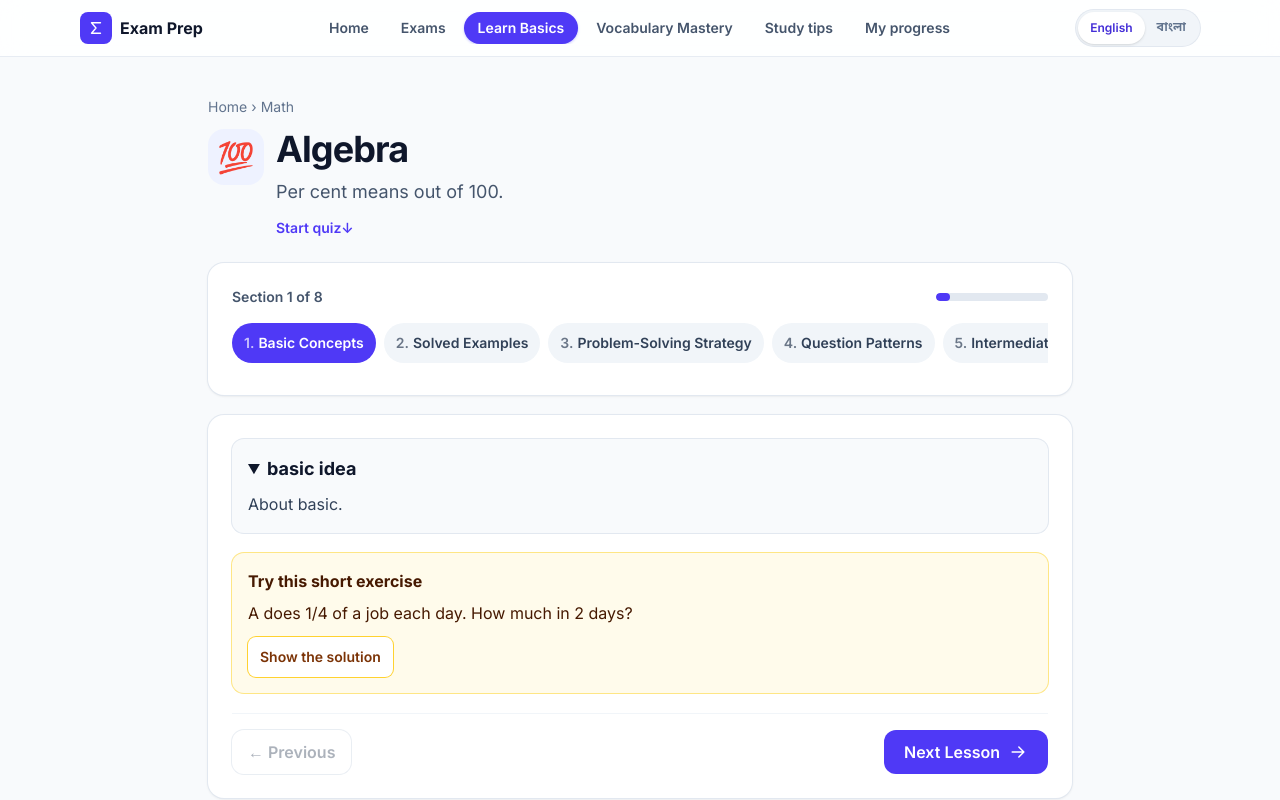
it: learn › an expanded non-Time & Work Math lesson uses the guided sections and bookmarks
Check: the heading "Algebra" is shown, box [276, 127, 408, 171]
Check: the text "Section 1 of 8" is shown, box [232, 287, 323, 307]
Click the button "2.Solved Examples" at (462, 343), box [384, 323, 540, 363]
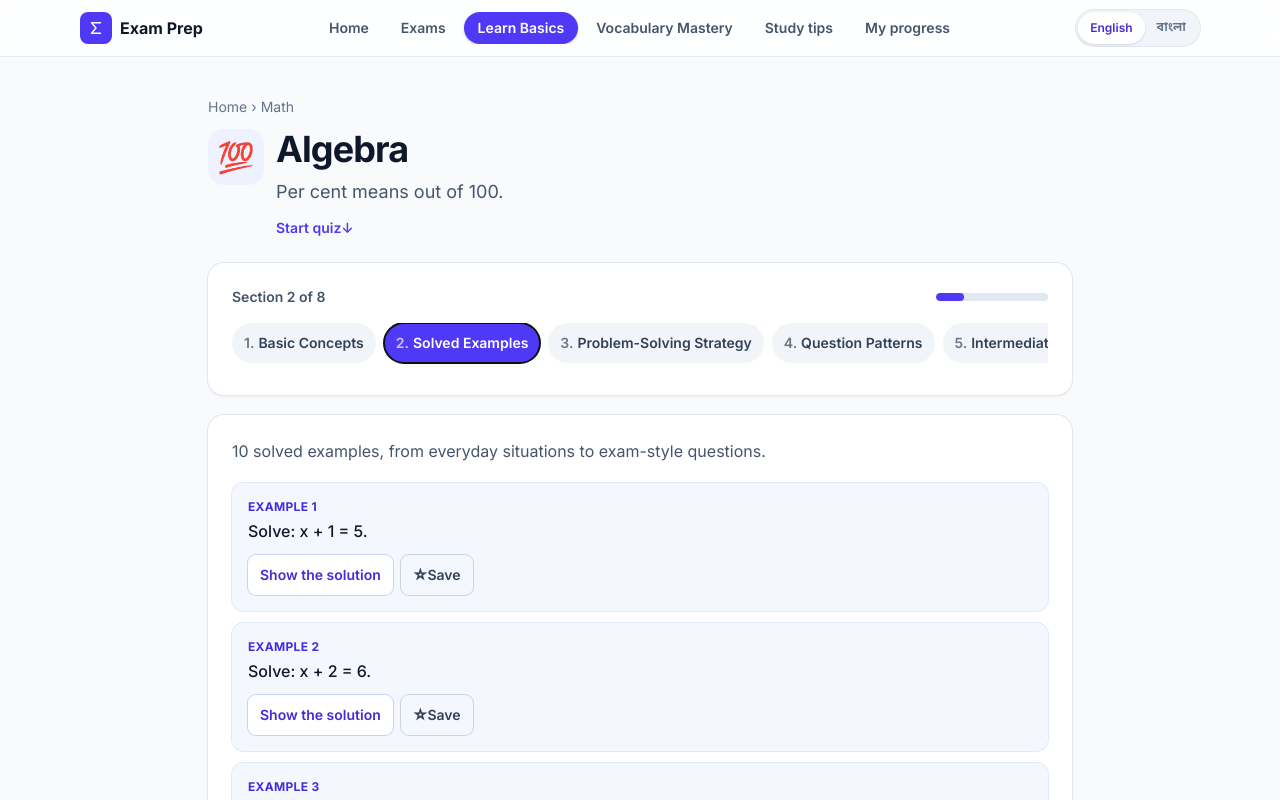
Check: the text "Solve: x + 1 = 5." is shown 10 times
Click the button "☆ Save" below "Solve: x + 1 = 5." at (437, 575), box [401, 555, 473, 595]
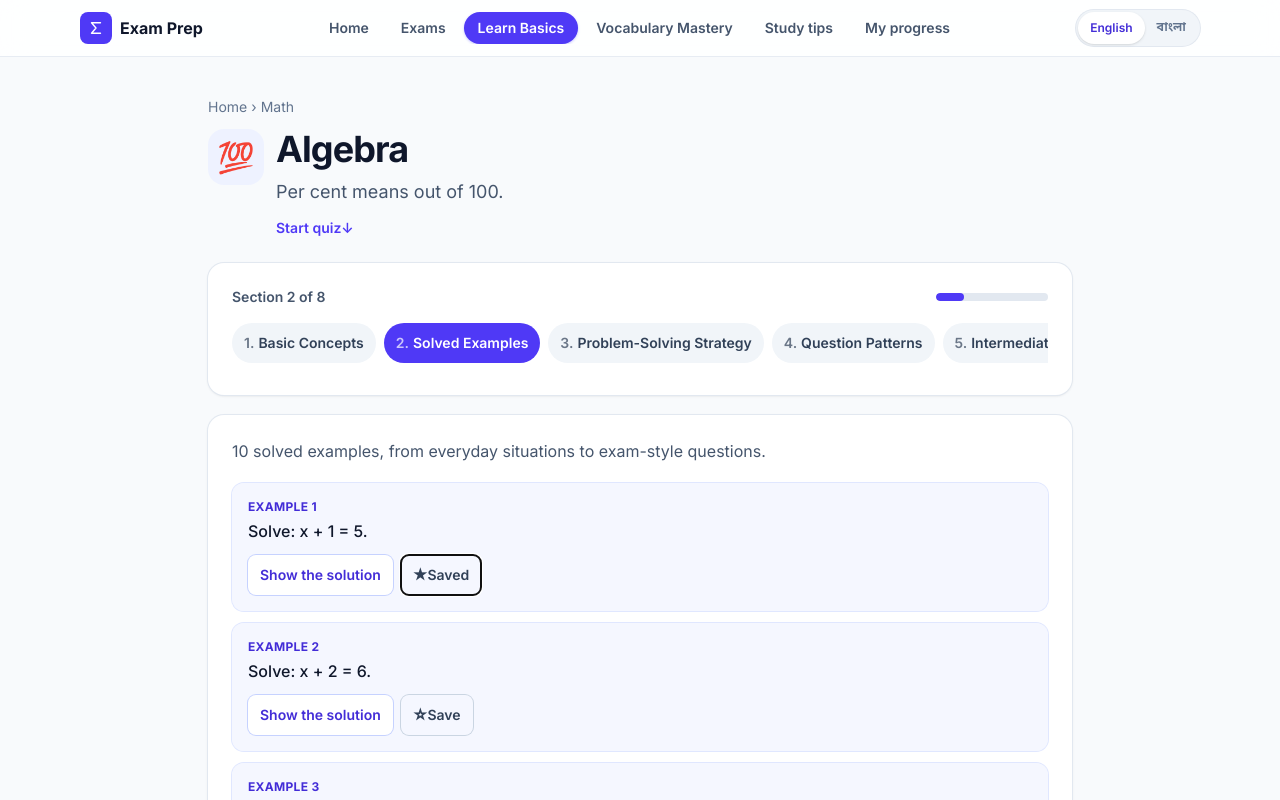
Click the button "3.Problem-Solving Strategy" at (656, 343), box [548, 323, 764, 363]
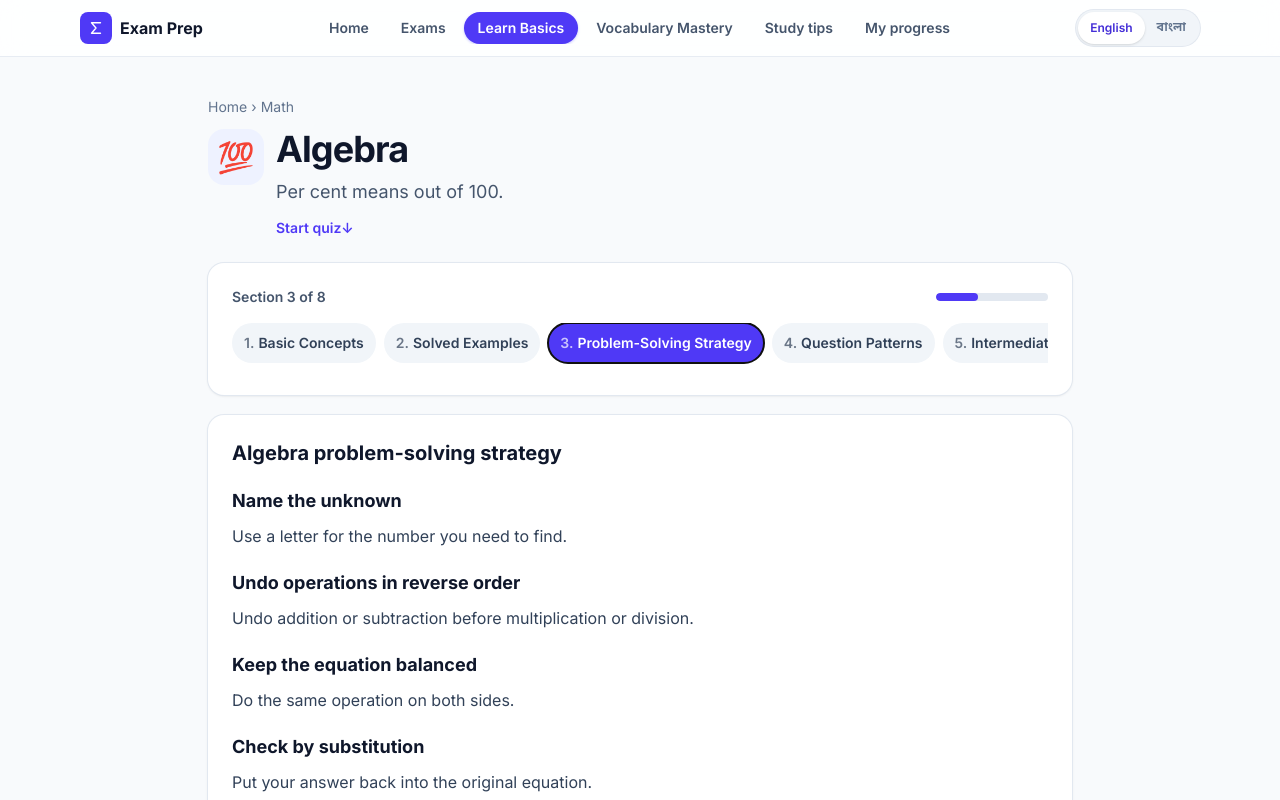
Check: the heading "Undo operations in reverse order" is shown, box [232, 572, 520, 593]
